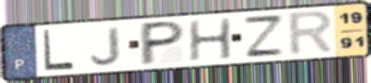H: (186, 16, 234, 63)
J: (89, 25, 123, 67)
L: (42, 28, 77, 72)
P: (137, 19, 188, 68)
R: (287, 8, 337, 58)
Z: (240, 14, 287, 59)
